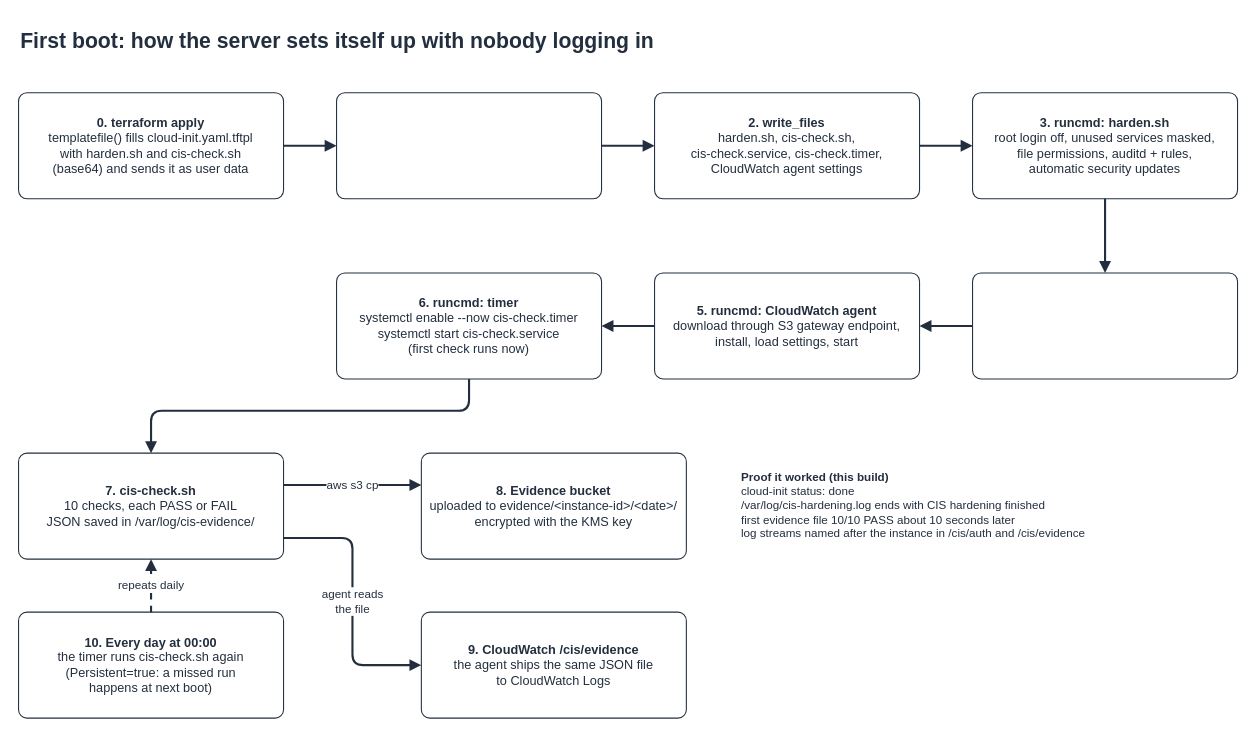
Some shapes in this 1256 by 737 pixel diagram are drawn without their labels. Here are the shapes that lost their labels. From the top down, the centre of each, then its label:
pixel 468 145: 1. Server starts cloud-init reads the user data once, at first boot
pixel 1104 325: 4. runcmd: tools jq (apt, through NAT) AWS CLI (snap, through NAT)
